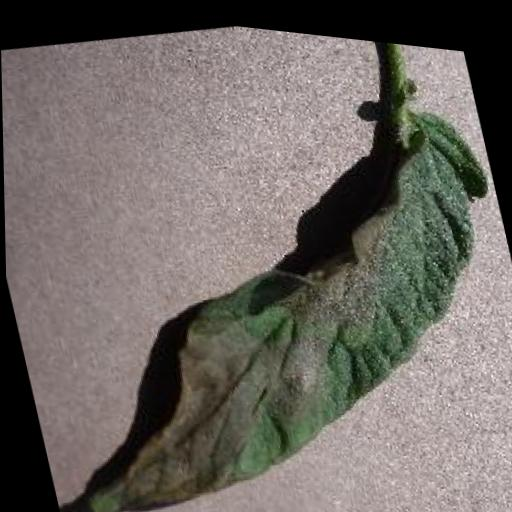Late Blight: (1, 46, 512, 512)
